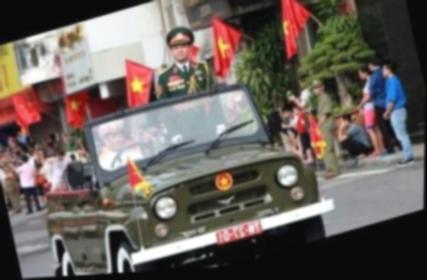License_Plate: (214, 217, 262, 249)
